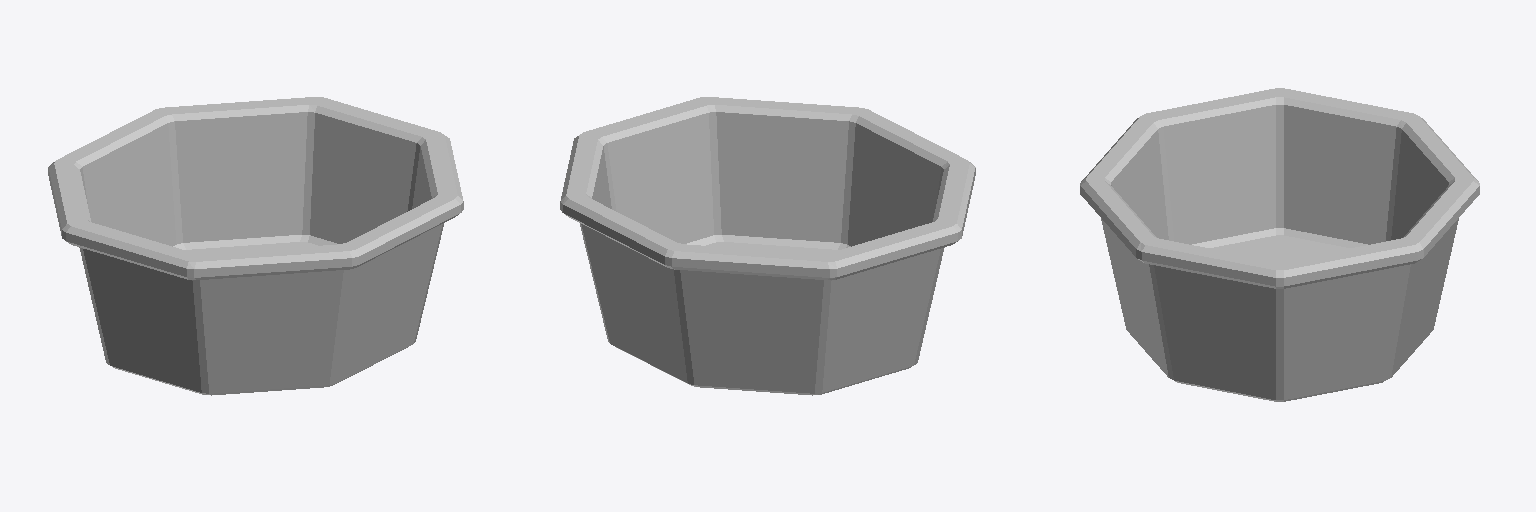
File: Bak bg.obj
The picture shows the model from 3 angles: view 1: azimuth 30°, elevation 25°; view 2: azimuth 150°, elevation 25°; view 3: azimuth 270°, elevation 25°; orthographic projection.
Parts seen in each view (by area): view 1: pCylinder24; view 2: pCylinder24; view 3: pCylinder24.
Boxes of the visible parts, x1=… form: pCylinder24: x1=48, y1=97, x2=463, y2=395; pCylinder24: x1=560, y1=97, x2=975, y2=395; pCylinder24: x1=1080, y1=88, x2=1479, y2=401.
Bounding box in the file's own units: 1.67 × 0.6355 × 1.5.